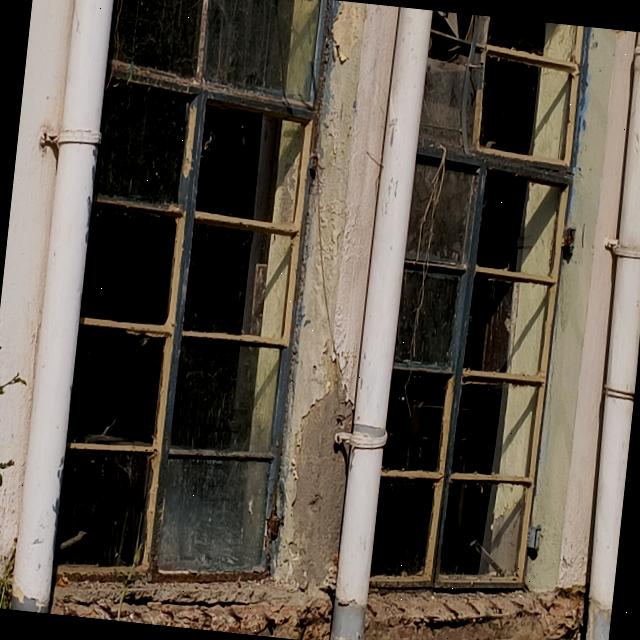Broken window pane: (53, 0, 339, 587), (373, 10, 592, 591)
Paint Peeling: (271, 343, 357, 575)
Spalling: (58, 565, 589, 640)
